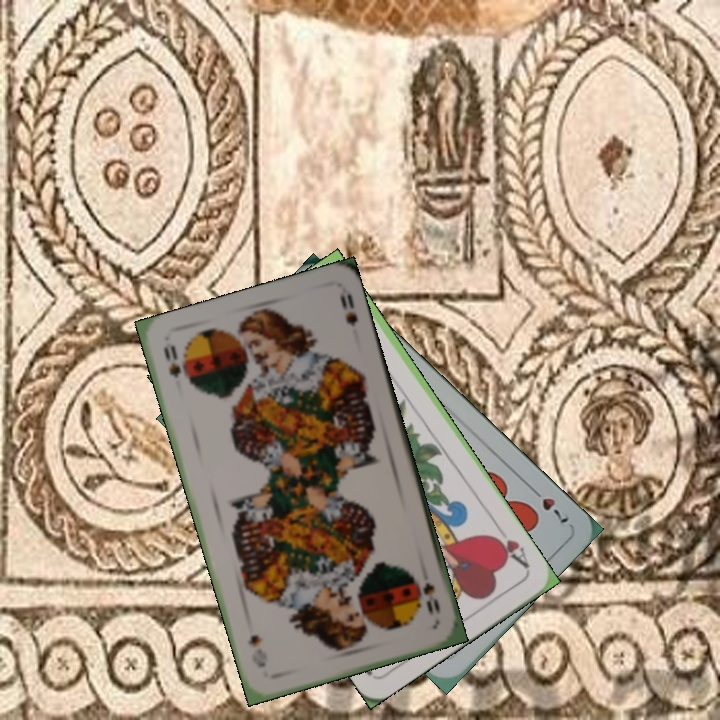H7: (525, 482, 572, 526)
HA: (487, 531, 532, 571)
SO: (413, 575, 443, 619), (159, 341, 184, 381)
